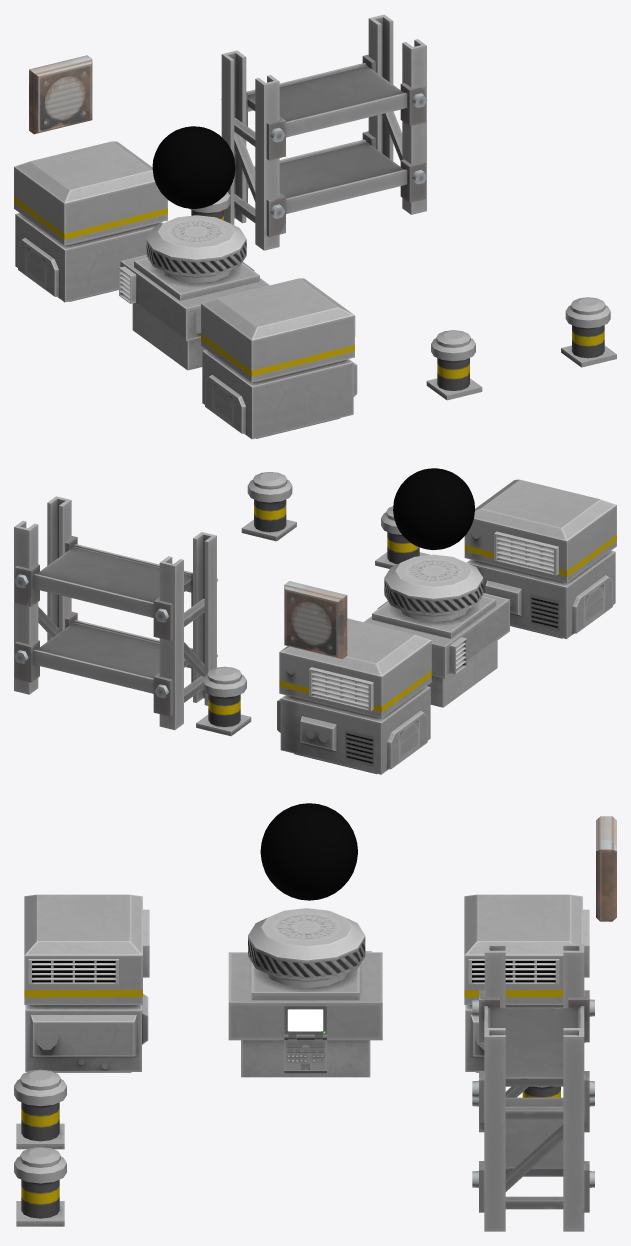
File: SkillMachine.fbx
3 renders of one model, top to bottom at view 1: azimuth 30°, elevation 25°; view 2: azimuth 150°, elevation 25°; view 3: azimuth 270°, elevation 25°, orthographic. The views are drawn at different scales.
Visible parts, largest first — view 1: Mat_Ventilation_Soda, Mat_Shelf_01_R1, SkillMachine, OutDoor_New; view 2: Mat_Ventilation_Soda, Mat_Shelf_01_R1, SkillMachine, OutDoor_New; view 3: Mat_Ventilation_Soda, Mat_Shelf_01_R1, SkillMachine, Mat_Computer_01_01, OutDoor_New.
Part boxes in pixels (x1=…): Mat_Ventilation_Soda: x1=14, y1=141, x2=616, y2=439; Mat_Shelf_01_R1: x1=221, y1=14, x2=427, y2=250; SkillMachine: x1=152, y1=126, x2=235, y2=208; OutDoor_New: x1=29, y1=55, x2=92, y2=134; Mat_Ventilation_Soda: x1=196, y1=472, x2=616, y2=774; Mat_Shelf_01_R1: x1=14, y1=496, x2=217, y2=729; SkillMachine: x1=393, y1=468, x2=474, y2=549; OutDoor_New: x1=284, y1=581, x2=347, y2=659; Mat_Ventilation_Soda: x1=14, y1=894, x2=589, y2=1226; Mat_Shelf_01_R1: x1=472, y1=943, x2=594, y2=1231; SkillMachine: x1=260, y1=803, x2=357, y2=900; Mat_Computer_01_01: x1=284, y1=1003, x2=326, y2=1073; OutDoor_New: x1=596, y1=816, x2=616, y2=921.
Size of the model in its own units: 5.53 by 2.97 by 6.56.
6 materials, 6 textured.
